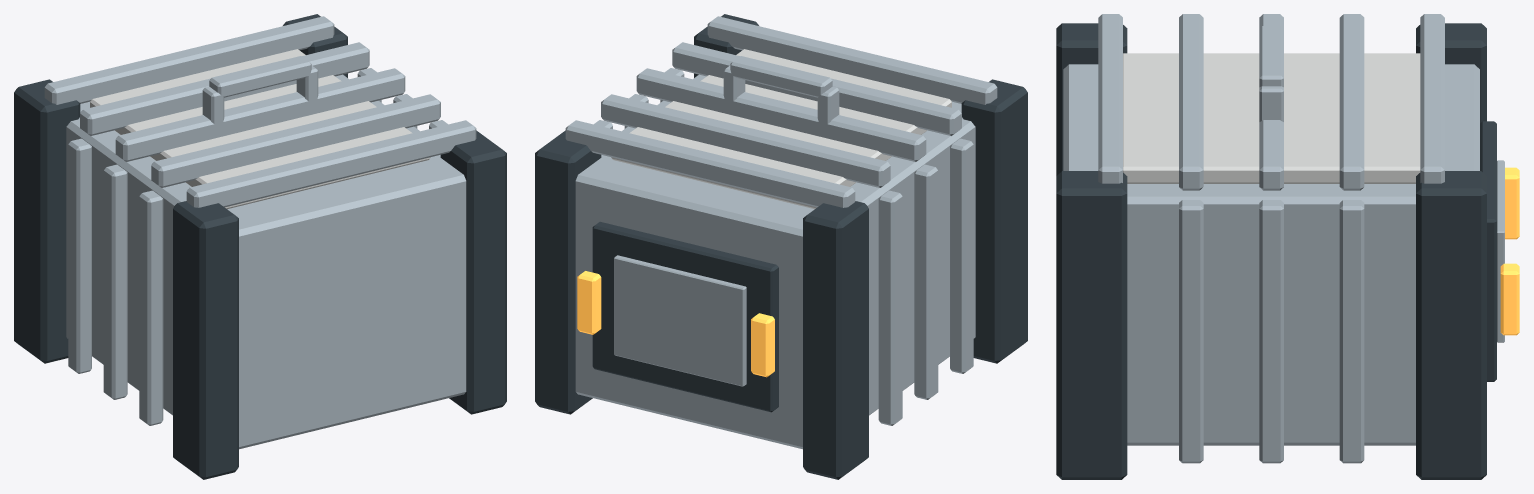
The model's file is heavy_capsule.glb.
3 renders of one model, left to right at view 1: azimuth 30°, elevation 25°; view 2: azimuth 150°, elevation 25°; view 3: azimuth 270°, elevation 25°, orthographic. The views are drawn at different scales.
Visible parts, largest first — view 1: pressure_hull, corner_protection (×4), top_rib (×5), side_rib (×3), top_panel, handle_top, handle_support (×2); view 2: corner_protection (×4), pressure_hull, top_rib (×5), side_rib (×3), hatch_center, access_hatch, top_panel, locking_latch (×2), handle_top, handle_support (×2); view 3: pressure_hull, corner_protection (×4), top_panel, side_rib (×3), top_rib (×5), access_hatch, locking_latch (×2), handle_top, hatch_center, handle_support.
Part boxes in pixels (bbox=[...]): pressure_hull: bbox=[66, 74, 466, 449]; corner_protection (×4): bbox=[14, 14, 506, 479]; top_rib (×5): bbox=[44, 16, 476, 207]; side_rib (×3): bbox=[68, 138, 163, 425]; top_panel: bbox=[90, 49, 430, 209]; handle_top: bbox=[209, 56, 311, 97]; handle_support (×2): bbox=[202, 65, 318, 130]; corner_protection (×4): bbox=[535, 14, 1027, 479]; pressure_hull: bbox=[575, 74, 975, 449]; top_rib (×5): bbox=[565, 16, 997, 207]; side_rib (×3): bbox=[878, 138, 973, 425]; hatch_center: bbox=[614, 255, 746, 386]; access_hatch: bbox=[592, 221, 778, 412]; top_panel: bbox=[611, 49, 951, 209]; locking_latch (×2): bbox=[577, 271, 774, 377]; handle_top: bbox=[730, 56, 832, 97]; handle_support (×2): bbox=[723, 65, 839, 124]; pressure_hull: bbox=[1063, 64, 1479, 445]; corner_protection (×4): bbox=[1056, 23, 1486, 479]; top_panel: bbox=[1123, 53, 1420, 183]; side_rib (×3): bbox=[1179, 200, 1364, 463]; top_rib (×5): bbox=[1098, 14, 1444, 190]; access_hatch: bbox=[1480, 121, 1496, 381]; locking_latch (×2): bbox=[1500, 167, 1519, 335]; handle_top: bbox=[1259, 26, 1283, 87]; hatch_center: bbox=[1497, 160, 1504, 342]; handle_support: bbox=[1259, 86, 1283, 121].
Bounding box in the file's own units: 0.425 × 0.404 × 0.4895.
